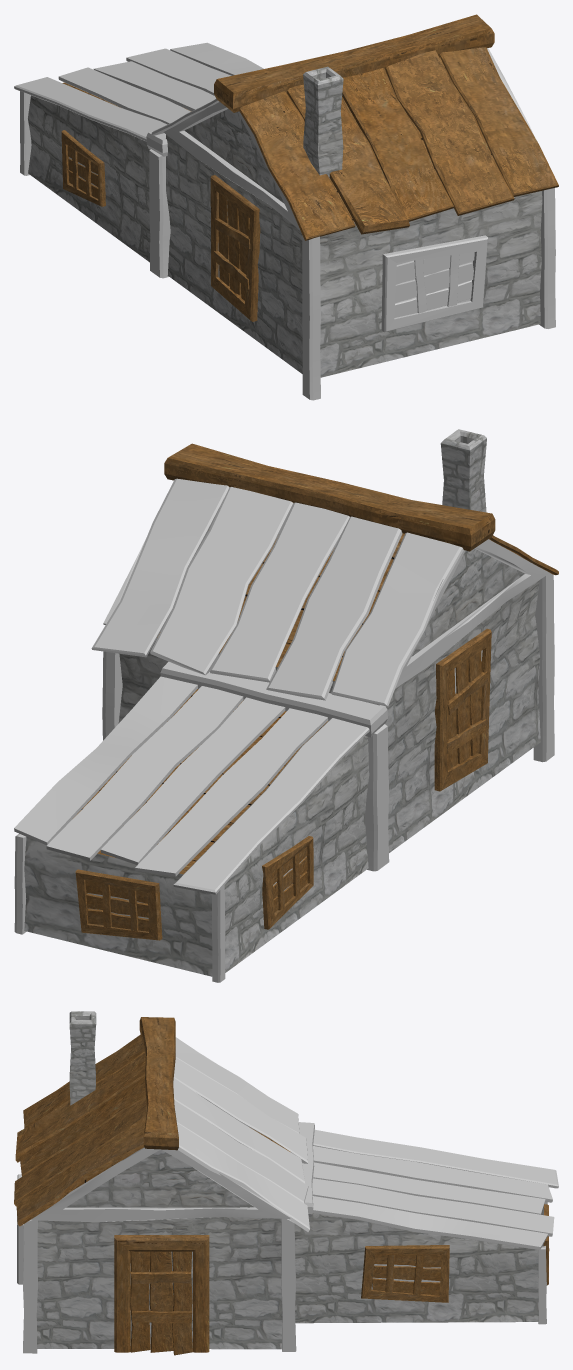
File: House_001.FBX
3 renders of one model, top to bottom at view 1: azimuth 30°, elevation 25°; view 2: azimuth 150°, elevation 25°; view 3: azimuth 270°, elevation 25°, orthographic. The views are drawn at different scales.
Visible parts, largest first — view 1: Object024; view 2: Object024; view 3: Object024.
Part boxes in pixels (x1,y1,x2,y2): Object024: (14, 14, 558, 400); Object024: (14, 429, 558, 982); Object024: (14, 1011, 558, 1355).
Size of the model in its own units: 541 by 564 by 1062.
